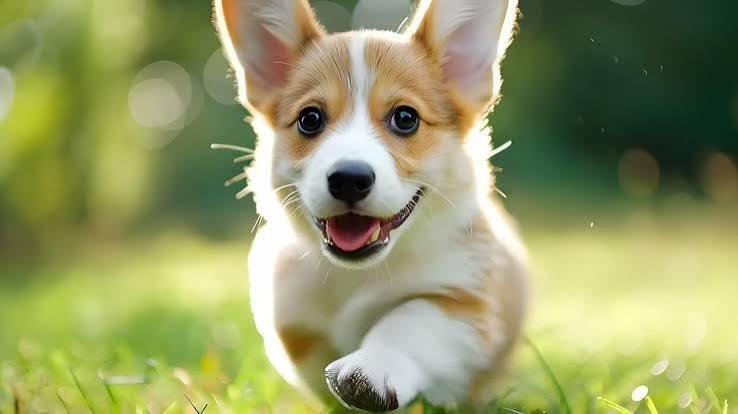puppy-dog: (208, 0, 530, 414)
